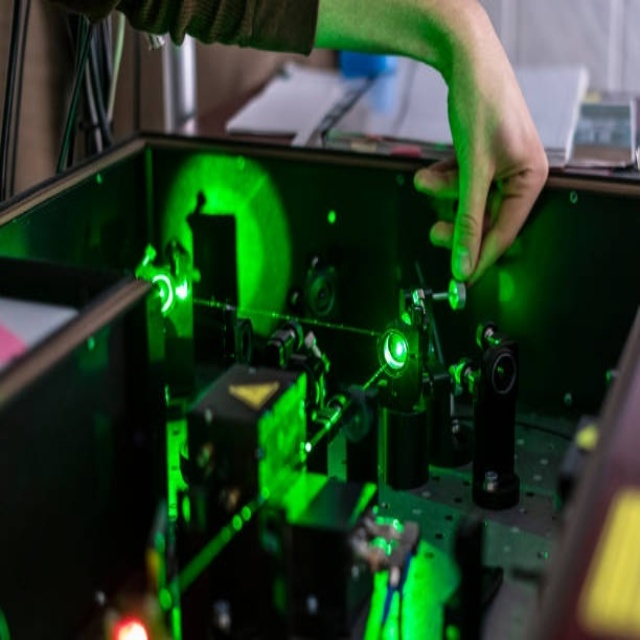Sin_guantes: (403, 22, 552, 293)
